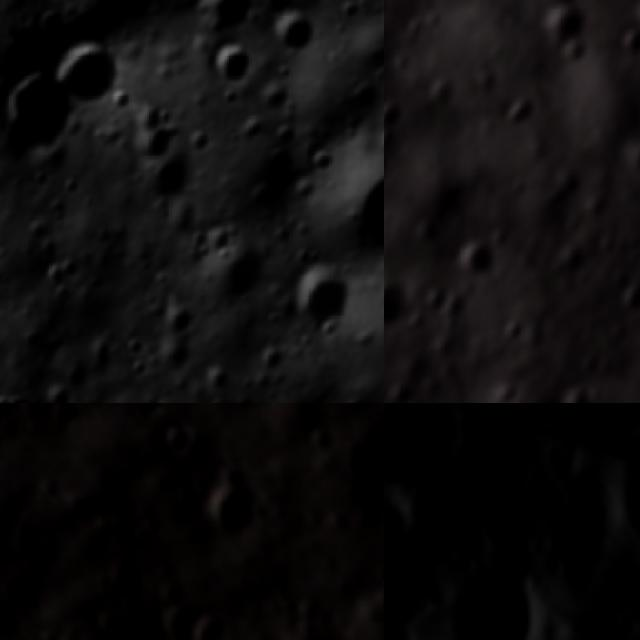crater: (516, 457, 638, 603), (384, 403, 505, 525), (432, 548, 563, 640), (0, 58, 93, 178), (316, 120, 384, 280), (272, 252, 368, 358), (580, 403, 640, 572), (38, 25, 137, 118), (130, 134, 210, 225), (113, 93, 192, 179), (47, 0, 198, 44), (205, 233, 281, 312), (201, 28, 273, 102), (182, 0, 269, 50), (214, 471, 262, 538), (270, 8, 325, 66), (154, 288, 208, 346), (37, 246, 91, 299), (160, 601, 225, 640), (542, 5, 588, 59), (608, 553, 640, 626), (503, 90, 541, 136), (252, 339, 293, 380), (196, 364, 239, 403), (254, 0, 308, 30), (455, 240, 494, 280), (33, 373, 84, 403), (162, 424, 202, 462), (384, 277, 412, 330), (429, 75, 464, 115), (613, 138, 640, 189), (278, 625, 359, 640), (419, 288, 450, 322), (120, 330, 152, 362), (0, 383, 45, 403), (617, 278, 640, 315), (497, 322, 529, 348), (620, 25, 640, 62), (384, 101, 410, 128), (129, 353, 153, 381)
